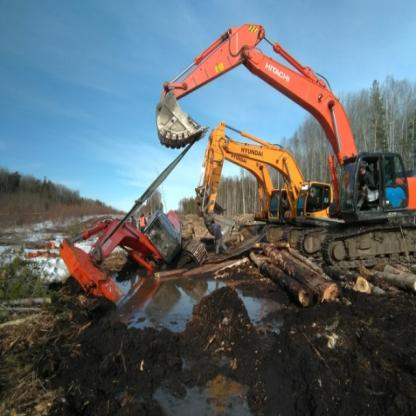excavator: (143, 12, 415, 263)
